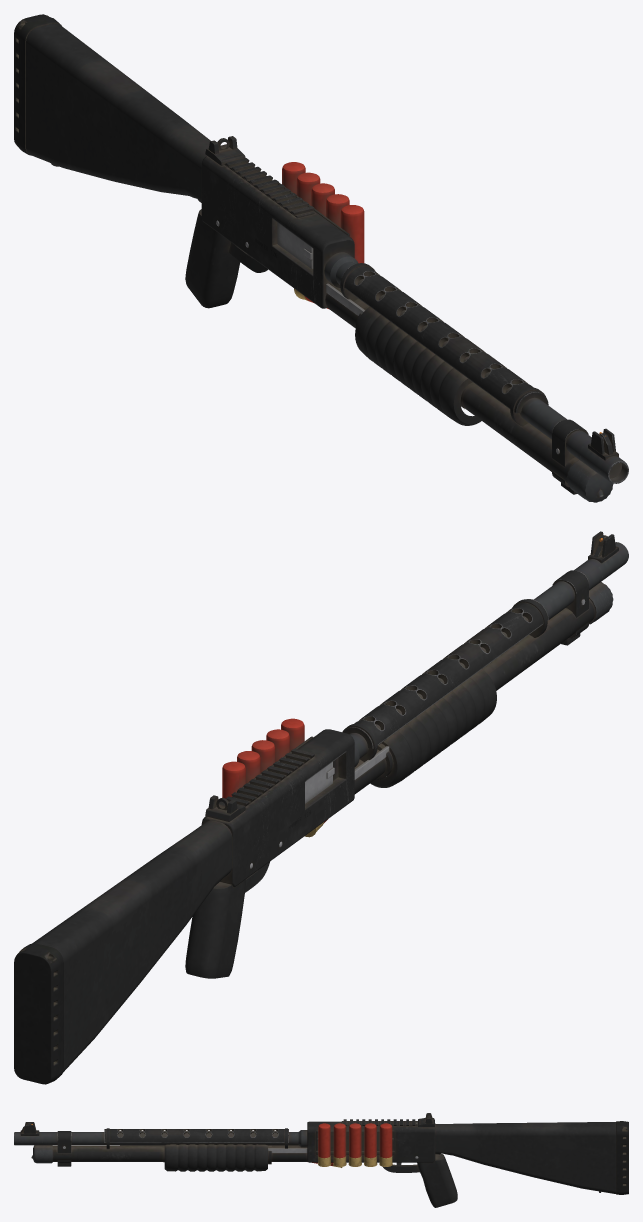
The model's file is shotgun.glb.
3 renders of one model, top to bottom at view 1: azimuth 30°, elevation 25°; view 2: azimuth 150°, elevation 25°; view 3: azimuth 270°, elevation 25°, orthographic. The views are drawn at different scales.
Visible parts, largest first — view 1: mesh_body, mesh_pump, mesh_bolt; view 2: mesh_body, mesh_pump; view 3: mesh_body, mesh_pump.
Part boxes in pixels (left/top/right/bottom): mesh_body: left=14, top=14, right=628, bottom=502; mesh_pump: left=326, top=283, right=481, bottom=425; mesh_bolt: left=277, top=222, right=313, bottom=268; mesh_body: left=14, top=531, right=628, bottom=1084; mesh_pump: left=354, top=669, right=496, bottom=787; mesh_body: left=14, top=1113, right=628, bottom=1207; mesh_pump: left=163, top=1144, right=307, bottom=1171.
Size of the model in its own units: 0.0649 by 0.1609 by 1.
Materials: 8 (8 with a texture image).
